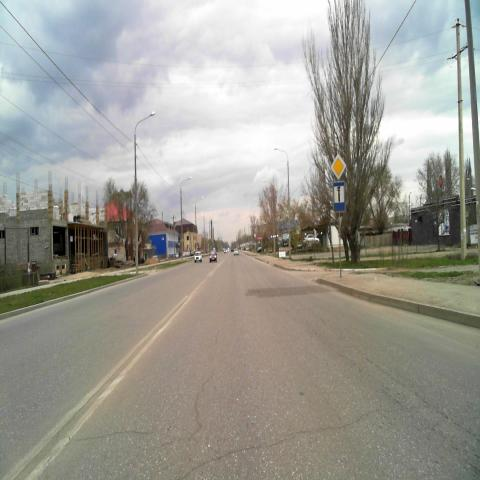7_4: (333, 180, 345, 210)
